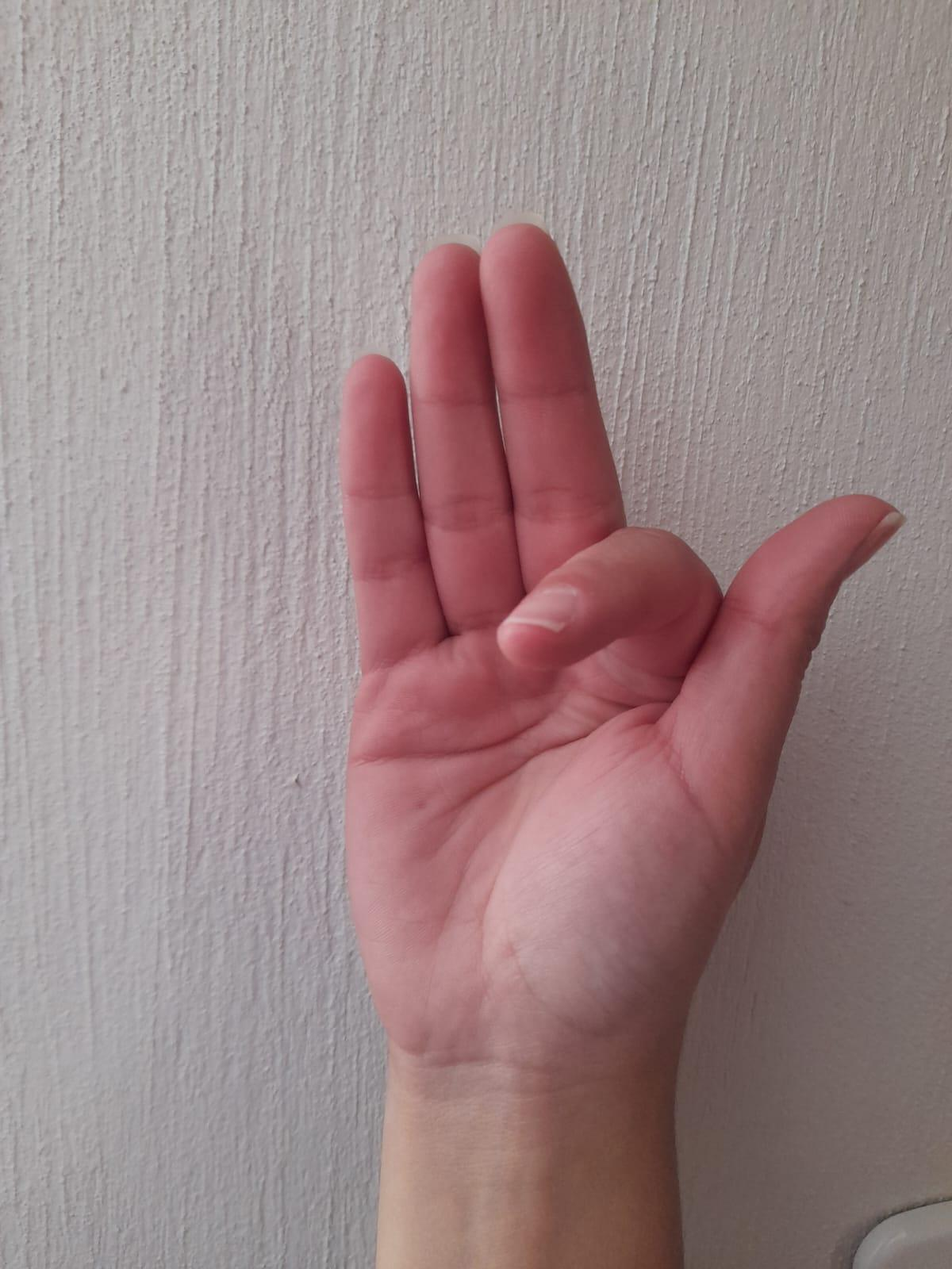F: (278, 206, 928, 1150)
